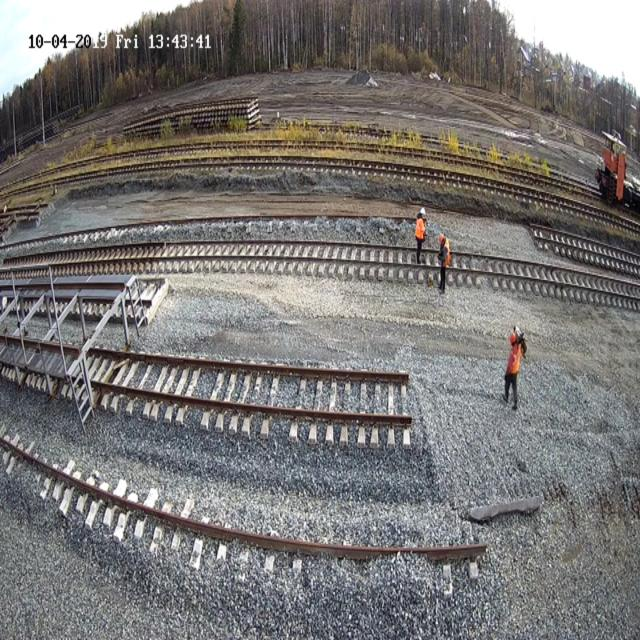Helmet: (419, 207, 426, 217)
Person: (502, 326, 527, 409), (437, 233, 450, 293), (415, 210, 426, 264)
